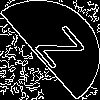Z: (25, 25, 86, 77)
